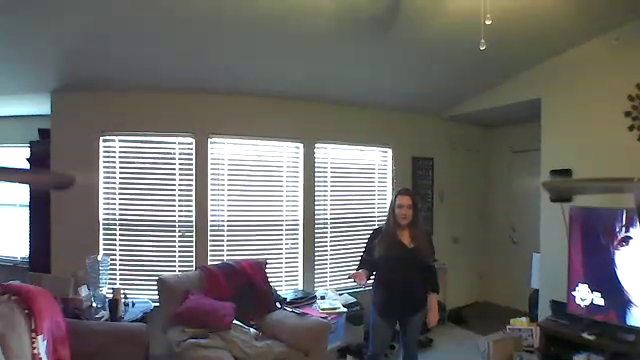land: (344, 270, 371, 291)
